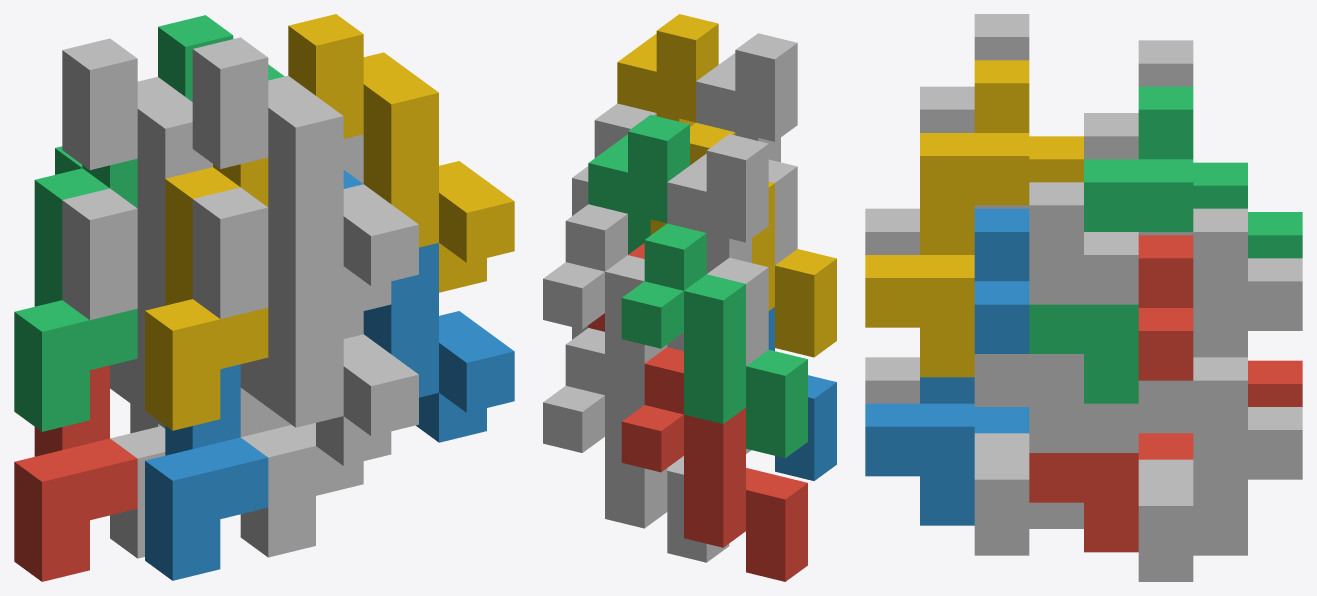
Rendered from tiling.obj.
The picture shows the model from 3 angles, left to right: view 1: azimuth 30°, elevation 25°; view 2: azimuth 150°, elevation 25°; view 3: azimuth 270°, elevation 25°; orthographic projection. The views are drawn at different scales.
Visible parts, largest first — view 1: copy_2_domain_4, copy_2_domain_2, copy_2_domain_8, copy_1_domain_3, copy_1_domain_4, copy_2_domain_3, copy_1_domain_2, copy_1_domain_1, copy_2_domain_6, copy_2_domain_1, copy_1_domain_6, copy_1_domain_5 (+3 smaller); view 2: copy_1_domain_3, copy_1_domain_1, copy_1_domain_5, copy_1_domain_7, copy_2_domain_3, copy_2_domain_4, copy_1_domain_4, copy_2_domain_7, copy_2_domain_8, copy_1_domain_2, copy_2_domain_1, copy_2_domain_2 (+1 smaller); view 3: copy_2_domain_8, copy_1_domain_5, copy_2_domain_6, copy_2_domain_7, copy_1_domain_6, copy_2_domain_5, copy_1_domain_7, copy_1_domain_8, copy_2_domain_4, copy_2_domain_3, copy_1_domain_3, copy_1_domain_1 (+3 smaller).
Boxes of the visible parts, left/top/right/bottom form: copy_2_domain_4: left=192, top=37, right=418, bottom=315; copy_2_domain_2: left=192, top=187, right=418, bottom=465; copy_2_domain_8: left=288, top=14, right=514, bottom=292; copy_1_domain_3: left=14, top=146, right=137, bottom=431; copy_1_domain_4: left=145, top=157, right=268, bottom=430; copy_2_domain_3: left=62, top=38, right=212, bottom=278; copy_1_domain_2: left=145, top=364, right=268, bottom=580; copy_1_domain_1: left=14, top=365, right=137, bottom=581; copy_2_domain_6: left=343, top=170, right=514, bottom=442; copy_2_domain_1: left=62, top=188, right=288, bottom=437; copy_1_domain_6: left=240, top=422, right=363, bottom=557; copy_1_domain_5: left=110, top=403, right=165, bottom=558; copy_1_domain_3: left=621, top=223, right=807, bottom=458; copy_1_domain_1: left=621, top=347, right=807, bottom=581; copy_1_domain_5: left=543, top=328, right=729, bottom=562; copy_1_domain_7: left=543, top=204, right=667, bottom=404; copy_2_domain_3: left=667, top=134, right=768, bottom=273; copy_2_domain_4: left=696, top=33, right=797, bottom=162; copy_1_domain_4: left=650, top=122, right=836, bottom=357; copy_2_domain_7: left=588, top=115, right=689, bottom=254; copy_2_domain_8: left=617, top=14, right=718, bottom=126; copy_1_domain_2: left=768, top=307, right=836, bottom=480; copy_2_domain_1: left=667, top=257, right=768, bottom=365; copy_2_domain_2: left=768, top=159, right=797, bottom=264; copy_2_domain_8: left=865, top=60, right=1029, bottom=377; copy_1_domain_5: left=1138, top=357, right=1302, bottom=581; copy_2_domain_6: left=865, top=208, right=1029, bottom=525; copy_2_domain_7: left=1029, top=86, right=1193, bottom=403; copy_1_domain_6: left=974, top=354, right=1138, bottom=555; copy_2_domain_5: left=1029, top=235, right=1193, bottom=552; copy_1_domain_7: left=1138, top=208, right=1302, bottom=433; copy_1_domain_8: left=974, top=182, right=1138, bottom=406; copy_2_domain_4: left=865, top=14, right=1029, bottom=254; copy_2_domain_3: left=1084, top=40, right=1193, bottom=159; copy_1_domain_3: left=1193, top=162, right=1302, bottom=258; copy_1_domain_1: left=1138, top=360, right=1302, bottom=459.
Bounding box in the file's own units: 7 × 11 × 8.
